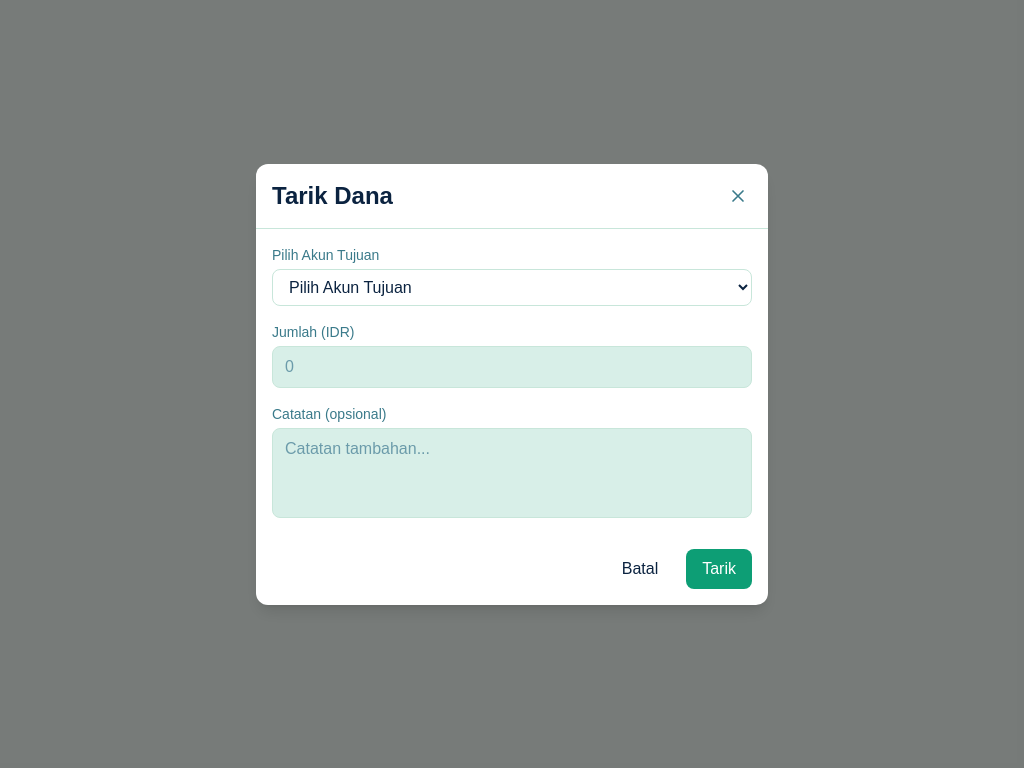
ContributionForm › shows error when no account selected in withdraw mode
Step 1. Type "100000" into the number field labelled "Jumlah (IDR)" → (512, 366), box [272,346,752,388]
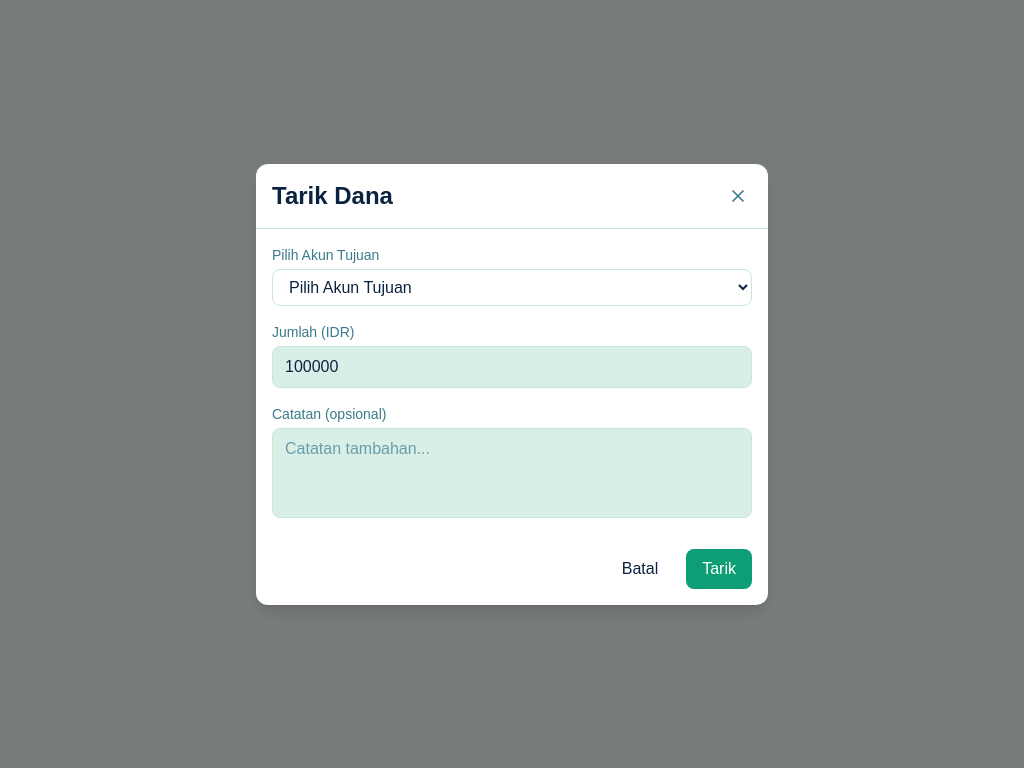
Step 2. Click the button "Tarik" → (719, 568), box [686,548,752,588]
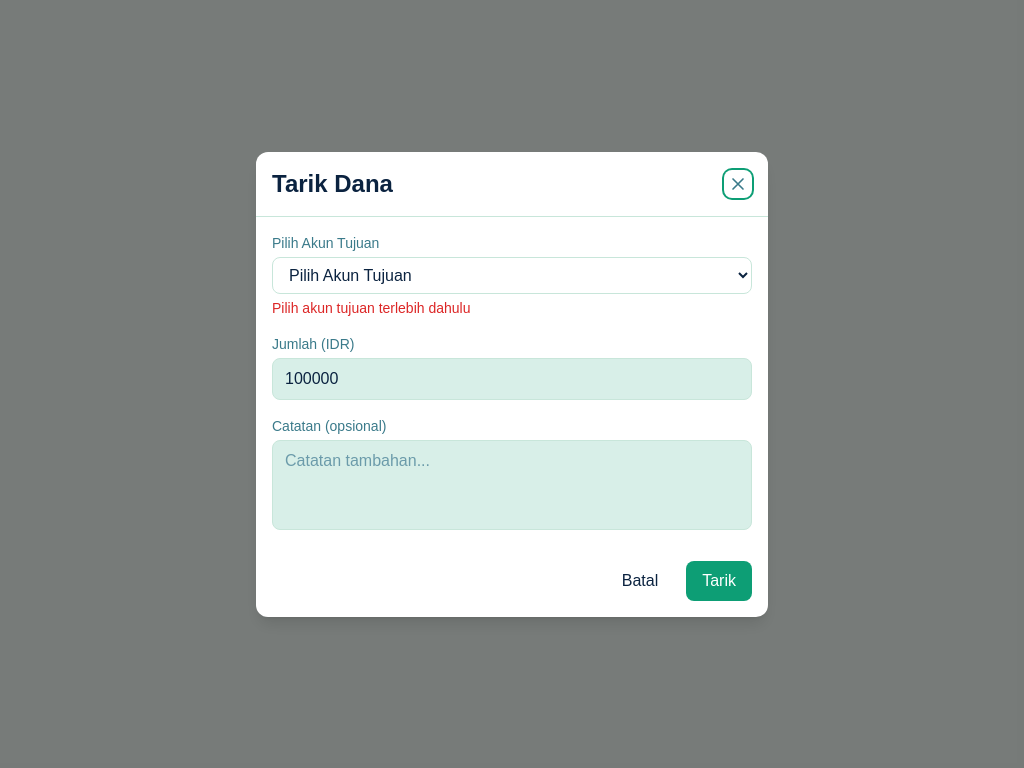
expect the text "Pilih akun tujuan terlebih dahulu" is shown: met, box [272,300,470,316]
